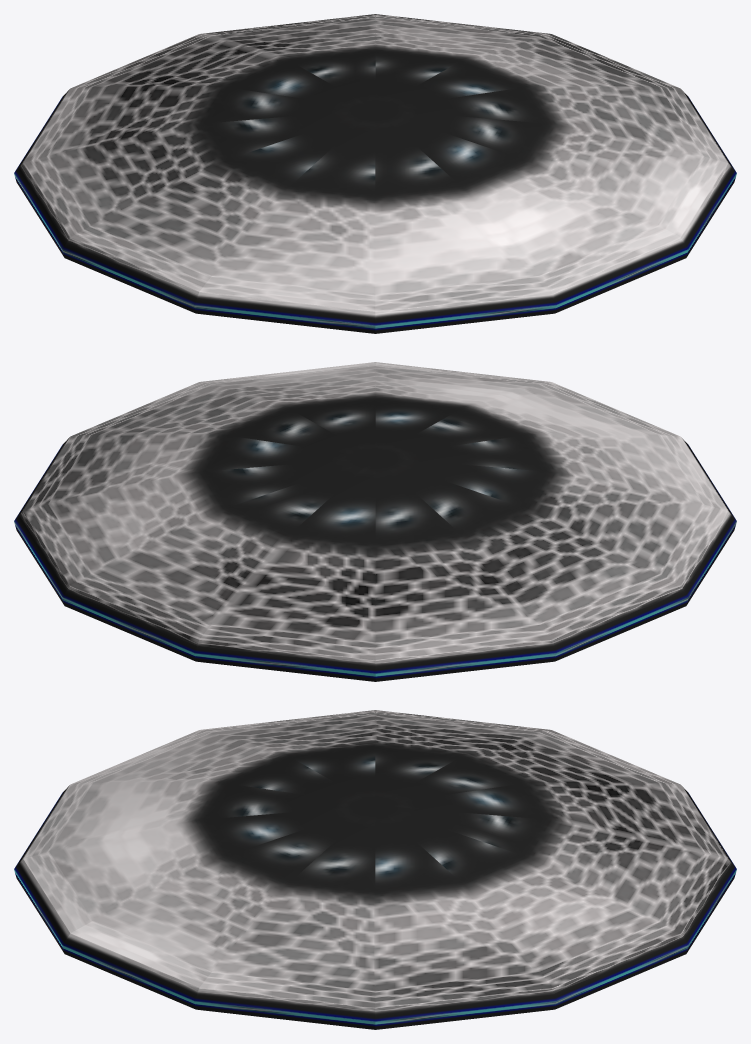
Rendered from LargeUFO.FBX.
3 views of the same model, one above another, from view 1: azimuth 30°, elevation 25°; view 2: azimuth 150°, elevation 25°; view 3: azimuth 270°, elevation 25° (orthographic).
Parts seen in each view (by area): view 1: UFO; view 2: UFO; view 3: UFO.
Part boxes in pixels (x1=…): UFO: x1=14, y1=14, x2=736, y2=333; UFO: x1=14, y1=362, x2=736, y2=681; UFO: x1=14, y1=710, x2=736, y2=1029.
Bounding box in the file's own units: 20 × 3.74 × 20.
Materials: 1 (1 with a texture image).
